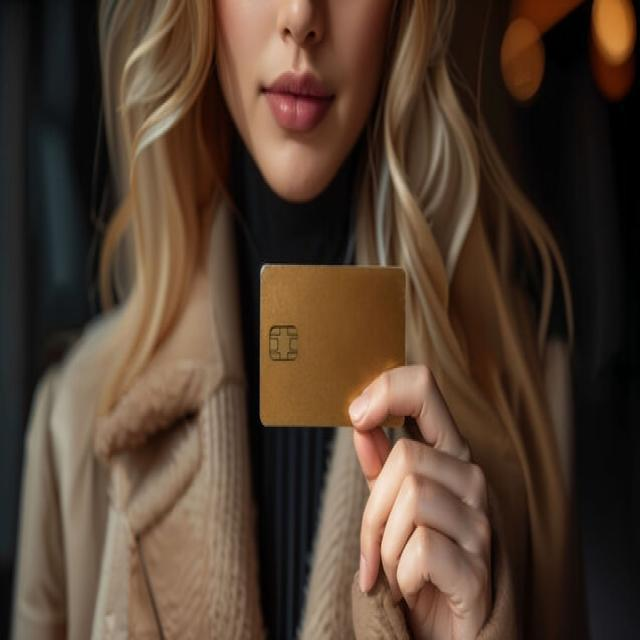payment_card: (257, 262, 407, 429)
